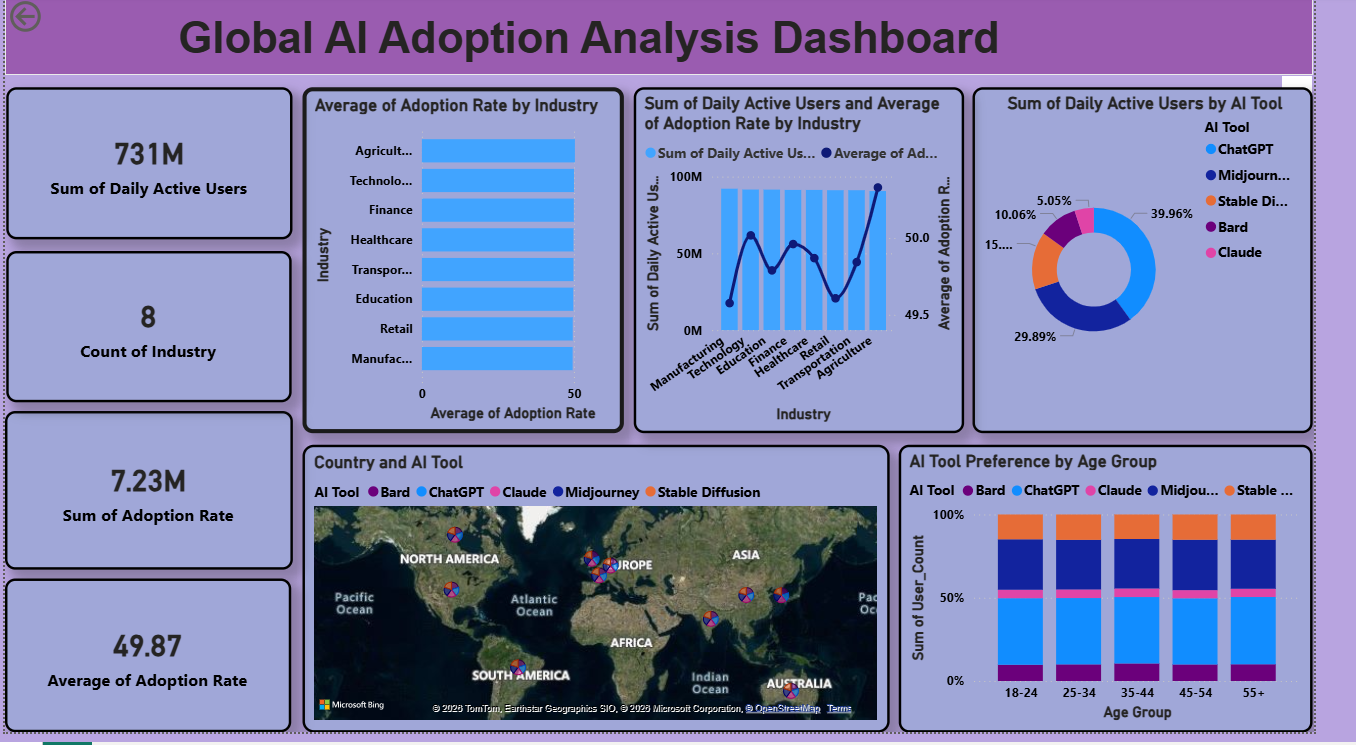

This screenshot's page, from the dashboard's own definition file:
{"tool":"powerbi","page":{"name":"Page 1","canvas":[1280,720],"ordinal":0},"visuals":[{"type":"clusteredBarChart","fields":{"Category":["ai_adoption_dataset.Industry"],"Y":["Avg(ai_adoption_dataset.Adoption Rate)"]},"box":[291,89.3,314.3,338.7],"z":0},{"type":"map","title":"Global AI Tool Usage by Country","fields":{"Category":["ai_adoption_dataset.Country"],"Series":["ai_adoption_dataset.AI Tool"]},"box":[291,439,574.7,281.3],"z":1000},{"type":"textbox","box":[0,0,1279.4,76.5],"z":2000},{"type":"donutChart","fields":{"Category":["ai_adoption_dataset.AI Tool"],"Y":["Sum(ai_adoption_dataset.Daily Active Users)"]},"box":[946.5,89.3,332.6,338.7],"z":3000},{"type":"lineStackedColumnComboChart","fields":{"Category":["ai_adoption_dataset.Industry"],"Y":["Sum(ai_adoption_dataset.Daily Active Users)"],"Y2":["Avg(ai_adoption_dataset.Adoption Rate)"]},"box":[615.1,89.3,322.8,338.7],"z":4000},{"type":"actionButton","box":[0,0,100,40],"z":5000},{"type":"card","fields":{"Values":["Sum(ai_adoption_dataset.Daily Active Users)"]},"box":[1.2,89.3,280,149.2],"z":6000},{"type":"card","fields":{"Values":["Sum(ai_adoption_dataset.Adoption Rate)"]},"box":[0,406,281.3,155.3],"z":7000},{"type":"card","fields":{"Values":["Avg(ai_adoption_dataset.Adoption Rate)"]},"box":[0,570.3,279.7,150],"z":8000},{"type":"card","fields":{"Values":["Count(ai_adoption_dataset.Industry)"]},"box":[1.2,249.5,278.8,148],"z":9000},{"type":"hundredPercentStackedColumnChart","title":"AI Tool Preference by Age Group","fields":{"Category":["ai_adoption_dataset.Age Group"],"Series":["ai_adoption_dataset.AI Tool"],"Y":["Sum(ai_adoption_dataset.User_Count)"]},"box":[874.3,439,404.8,281.3],"z":10000}]}

Visuals, with their boxes in screenshot pixels (x1, y1, x2, y2), scaled from the page's 1280x720 canvas onto the 1356x745 screenshot:
clusteredBarChart - ai_adoption_dataset.Industry x Avg(ai_adoption_dataset.Adoption Rate): x1=308, y1=92, x2=641, y2=443
"Global AI Tool Usage by Country" map: x1=308, y1=454, x2=917, y2=744
textbox: x1=0, y1=0, x2=1355, y2=79
donutChart - ai_adoption_dataset.AI Tool x Sum(ai_adoption_dataset.Daily Active Users): x1=1003, y1=92, x2=1355, y2=443
lineStackedColumnComboChart - ai_adoption_dataset.Industry x Sum(ai_adoption_dataset.Daily Active Users): x1=652, y1=92, x2=994, y2=443
actionButton: x1=0, y1=0, x2=106, y2=41
card - Sum(ai_adoption_dataset.Daily Active Users): x1=1, y1=92, x2=298, y2=247
card - Sum(ai_adoption_dataset.Adoption Rate): x1=0, y1=420, x2=298, y2=581
card - Avg(ai_adoption_dataset.Adoption Rate): x1=0, y1=590, x2=296, y2=744
card - Count(ai_adoption_dataset.Industry): x1=1, y1=258, x2=297, y2=411
"AI Tool Preference by Age Group" hundredPercentStackedColumnChart: x1=926, y1=454, x2=1355, y2=744
